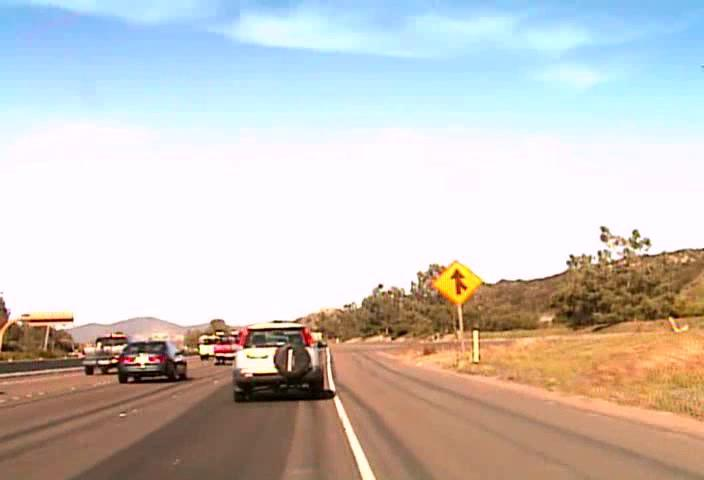merge: (432, 260, 483, 304)
